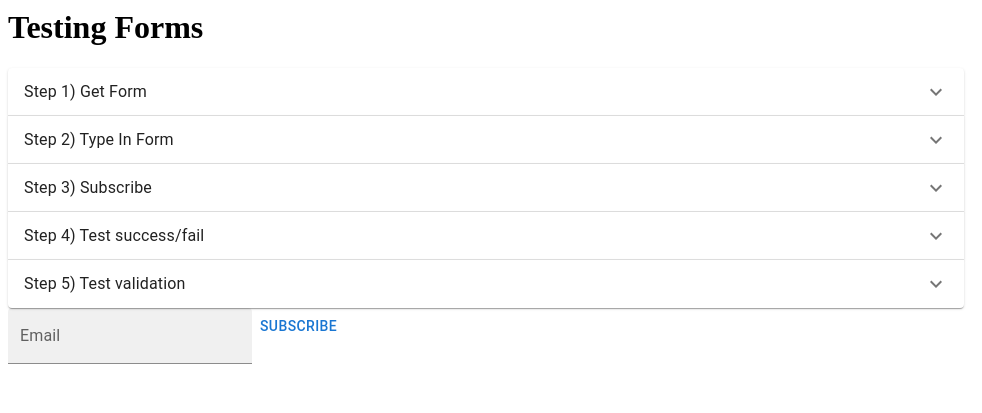
Test case: Cypress With Forms › Step 5) should fail
The width and height of the screenshot is (982, 413).
Expected: the text "fail!" is not shown
What coordinates should you click on to do the following:
click the button with test id "susbcribe-button"
I would click on:
 (299, 327)
Its box is [252, 308, 345, 345].
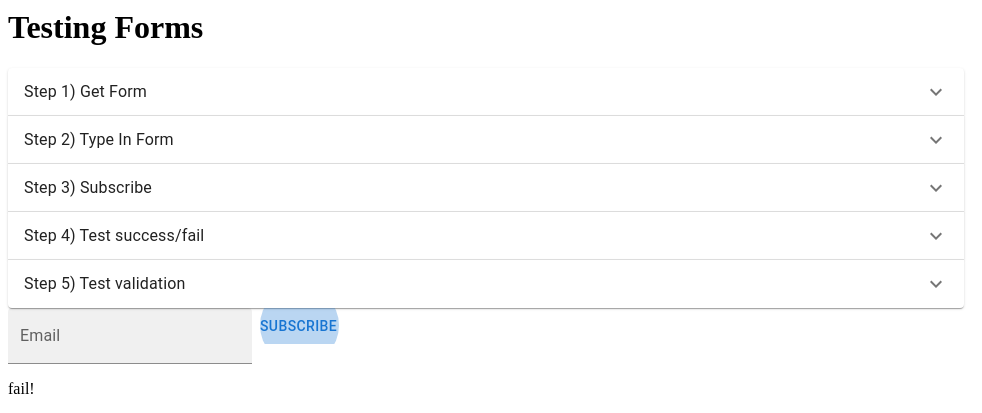
Expected: the text "fail!" is shown, [8, 380, 35, 397]
